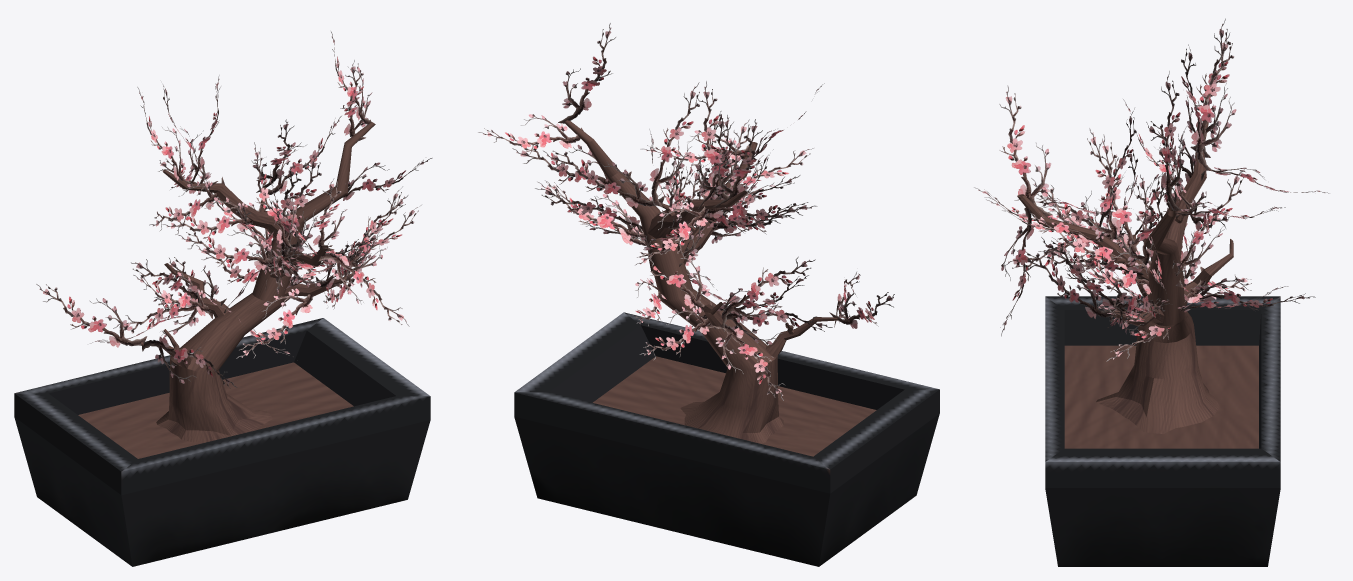
Rendered from Bonsai.fbx.
The picture shows the model from 3 angles, left to right: view 1: azimuth 30°, elevation 25°; view 2: azimuth 150°, elevation 25°; view 3: azimuth 270°, elevation 25°; orthographic projection. The views are drawn at different scales.
Visible parts, largest first — view 1: Arbol.003, Arbol.003|rama01.001|Dupli|12, Arbol.003|rama01.001|Dupli|20, Arbol.003|rama01.001|Dupli|41, Arbol.003|rama01.001|Dupli|11, Arbol.003|rama01.001|Dupli|25, Arbol.003|rama01.001|Dupli|5, Arbol.003|rama01.001|Dupli|21, Arbol.003|rama01.001|Dupli|32, Arbol.003|rama01.001|Dupli|23, Arbol.003|rama01.001|Dupli|6, Arbol.003|rama01.001|Dupli|35 (+12 smaller); view 2: Arbol.003, Arbol.003|rama01.001|Dupli|28, Arbol.003|rama01.001|Dupli|29, Arbol.003|rama01.001|Dupli|30, Arbol.003|rama01.001|Dupli|9, Arbol.003|rama01.001|Dupli|3, Arbol.003|rama01.001|Dupli|31, Arbol.003|rama01.001|Dupli|7, Arbol.003|rama01.001|Dupli|4, Arbol.003|rama01.001|Dupli|34, Arbol.003|rama01.001|Dupli|8, Arbol.003|rama01.001|Dupli|33 (+11 smaller); view 3: Arbol.003, Arbol.003|rama01.001|Dupli|10, Arbol.003|rama01.001|Dupli|26, Arbol.003|rama01.001|Dupli|3, Arbol.003|rama01.001|Dupli|23, Arbol.003|rama01.001|Dupli|42, Arbol.003|rama01.001|Dupli|19, Arbol.003|rama01.001|Dupli|40, Arbol.003|rama01.001|Dupli|13, Arbol.003|rama01.001|Dupli|, Arbol.003|rama01.001|Dupli|25, Arbol.003|rama01.001|Dupli|16 (+12 smaller).
Part boxes in pixels (<box>): Arbol.003: <box>14,121,430,566</box>; Arbol.003|rama01.001|Dupli|12: <box>36,284,147,347</box>; Arbol.003|rama01.001|Dupli|20: <box>177,227,282,270</box>; Arbol.003|rama01.001|Dupli|41: <box>236,280,314,358</box>; Arbol.003|rama01.001|Dupli|11: <box>142,336,237,388</box>; Arbol.003|rama01.001|Dupli|25: <box>319,253,409,326</box>; Arbol.003|rama01.001|Dupli|5: <box>162,197,261,241</box>; Arbol.003|rama01.001|Dupli|21: <box>251,142,302,251</box>; Arbol.003|rama01.001|Dupli|32: <box>113,298,212,337</box>; Arbol.003|rama01.001|Dupli|23: <box>273,163,309,269</box>; Arbol.003|rama01.001|Dupli|6: <box>149,177,224,231</box>; Arbol.003|rama01.001|Dupli|35: <box>133,272,217,315</box>; Arbol.003: <box>514,118,939,566</box>; Arbol.003|rama01.001|Dupli|28: <box>543,150,664,207</box>; Arbol.003|rama01.001|Dupli|29: <box>649,82,699,206</box>; Arbol.003|rama01.001|Dupli|30: <box>720,256,815,331</box>; Arbol.003|rama01.001|Dupli|9: <box>694,81,741,203</box>; Arbol.003|rama01.001|Dupli|3: <box>558,23,615,123</box>; Arbol.003|rama01.001|Dupli|31: <box>707,324,785,400</box>; Arbol.003|rama01.001|Dupli|7: <box>634,195,708,265</box>; Arbol.003|rama01.001|Dupli|4: <box>478,114,583,154</box>; Arbol.003|rama01.001|Dupli|34: <box>628,218,719,311</box>; Arbol.003|rama01.001|Dupli|8: <box>713,119,762,207</box>; Arbol.003|rama01.001|Dupli|33: <box>639,301,714,360</box>; Arbol.003: <box>1017,121,1280,566</box>; Arbol.003|rama01.001|Dupli|10: <box>1191,32,1236,171</box>; Arbol.003|rama01.001|Dupli|26: <box>999,85,1052,216</box>; Arbol.003|rama01.001|Dupli|3: <box>1157,71,1185,210</box>; Arbol.003|rama01.001|Dupli|23: <box>1081,128,1121,259</box>; Arbol.003|rama01.001|Dupli|42: <box>1017,251,1114,318</box>; Arbol.003|rama01.001|Dupli|19: <box>1096,134,1151,264</box>; Arbol.003|rama01.001|Dupli|40: <box>1041,237,1143,313</box>; Arbol.003|rama01.001|Dupli|13: <box>1118,174,1162,277</box>; Arbol.003|rama01.001|Dupli|: <box>1176,169,1244,287</box>; Arbol.003|rama01.001|Dupli|25: <box>1000,207,1034,336</box>; Arbol.003|rama01.001|Dupli|16: <box>1068,248,1151,294</box>.
Bounding box in the file's own units: 131 × 143 × 97.14.
Materials: 2 (2 with a texture image).
